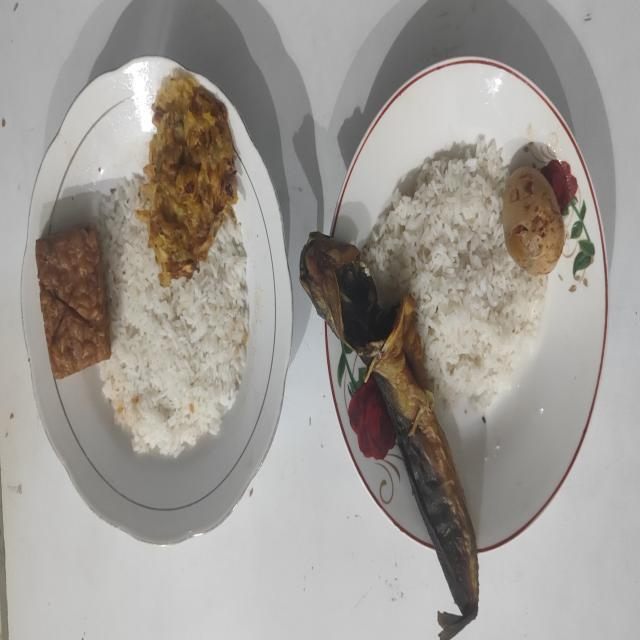nasi_putih: (363, 138, 547, 414), (98, 174, 250, 458)
tempe_goreng: (36, 225, 111, 379)
